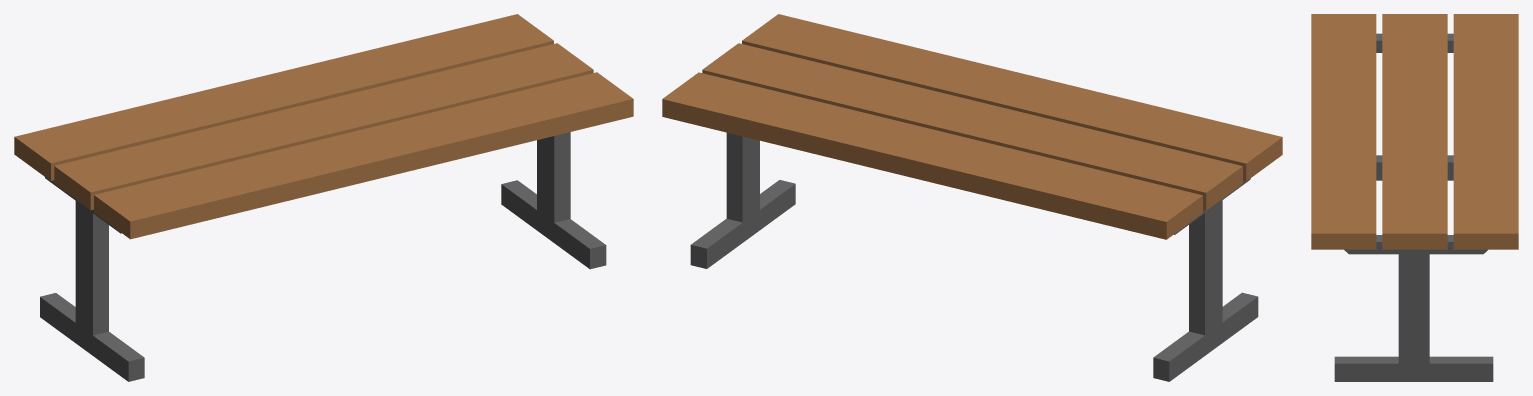
File: Banco_training_fire.fbx
3 renders of one model, left to right at view 1: azimuth 30°, elevation 25°; view 2: azimuth 150°, elevation 25°; view 3: azimuth 270°, elevation 25°, orthographic. The views are drawn at different scales.
Visible parts, largest first — view 1: Cube.005; view 2: Cube.005; view 3: Cube.005.
Boxes of the visible parts, x1,y1,x2,y2 form: Cube.005: [14, 14, 633, 381]; Cube.005: [662, 14, 1282, 381]; Cube.005: [1311, 14, 1518, 381].
Size of the model in its own units: 844 by 277 by 337.
